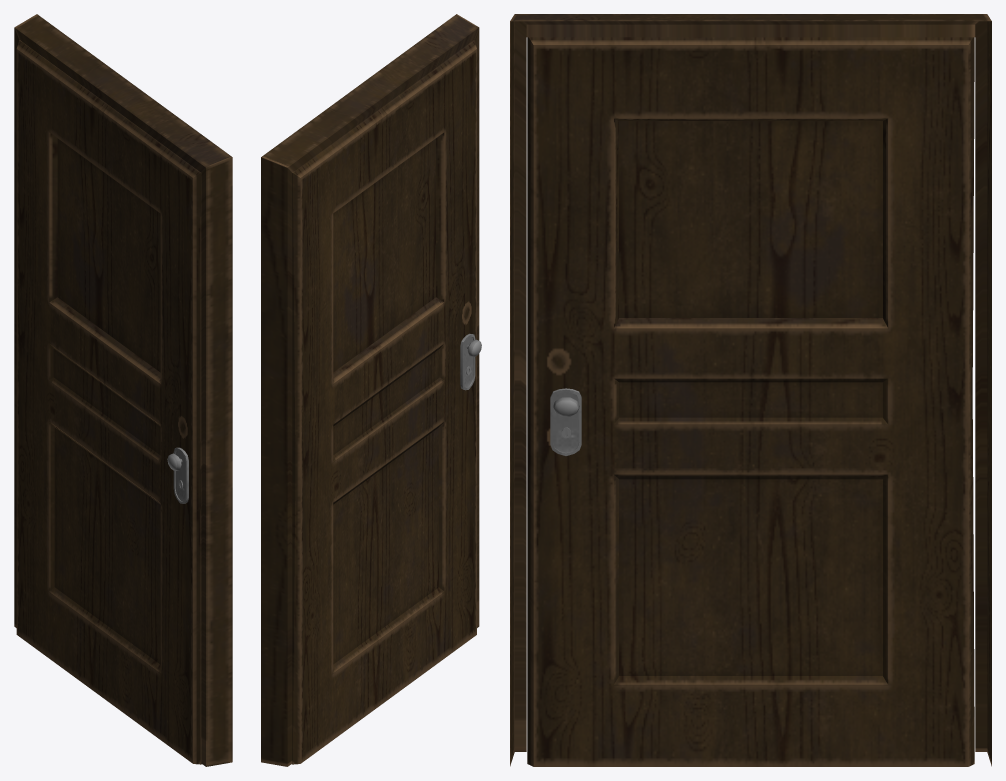
Rendered from Door houses.fbx.
The picture shows the model from 3 angles, left to right: view 1: azimuth 30°, elevation 25°; view 2: azimuth 150°, elevation 25°; view 3: azimuth 270°, elevation 25°; orthographic projection. The views are drawn at different scales.
Parts seen in each view (by area): view 1: FrontDoor.006, FrontDoorFrame.006; view 2: FrontDoor.006, FrontDoorFrame.006; view 3: FrontDoor.006, FrontDoorFrame.006.
Part boxes in pixels (box(x1,y1,x2,y2)): FrontDoor.006: box(16, 40, 201, 764); FrontDoorFrame.006: box(14, 14, 232, 766); FrontDoor.006: box(291, 40, 481, 764); FrontDoorFrame.006: box(261, 14, 479, 766); FrontDoor.006: box(527, 37, 974, 766); FrontDoorFrame.006: box(510, 14, 991, 766).
Size of the model in its own units: 21.54 by 236 by 138.
